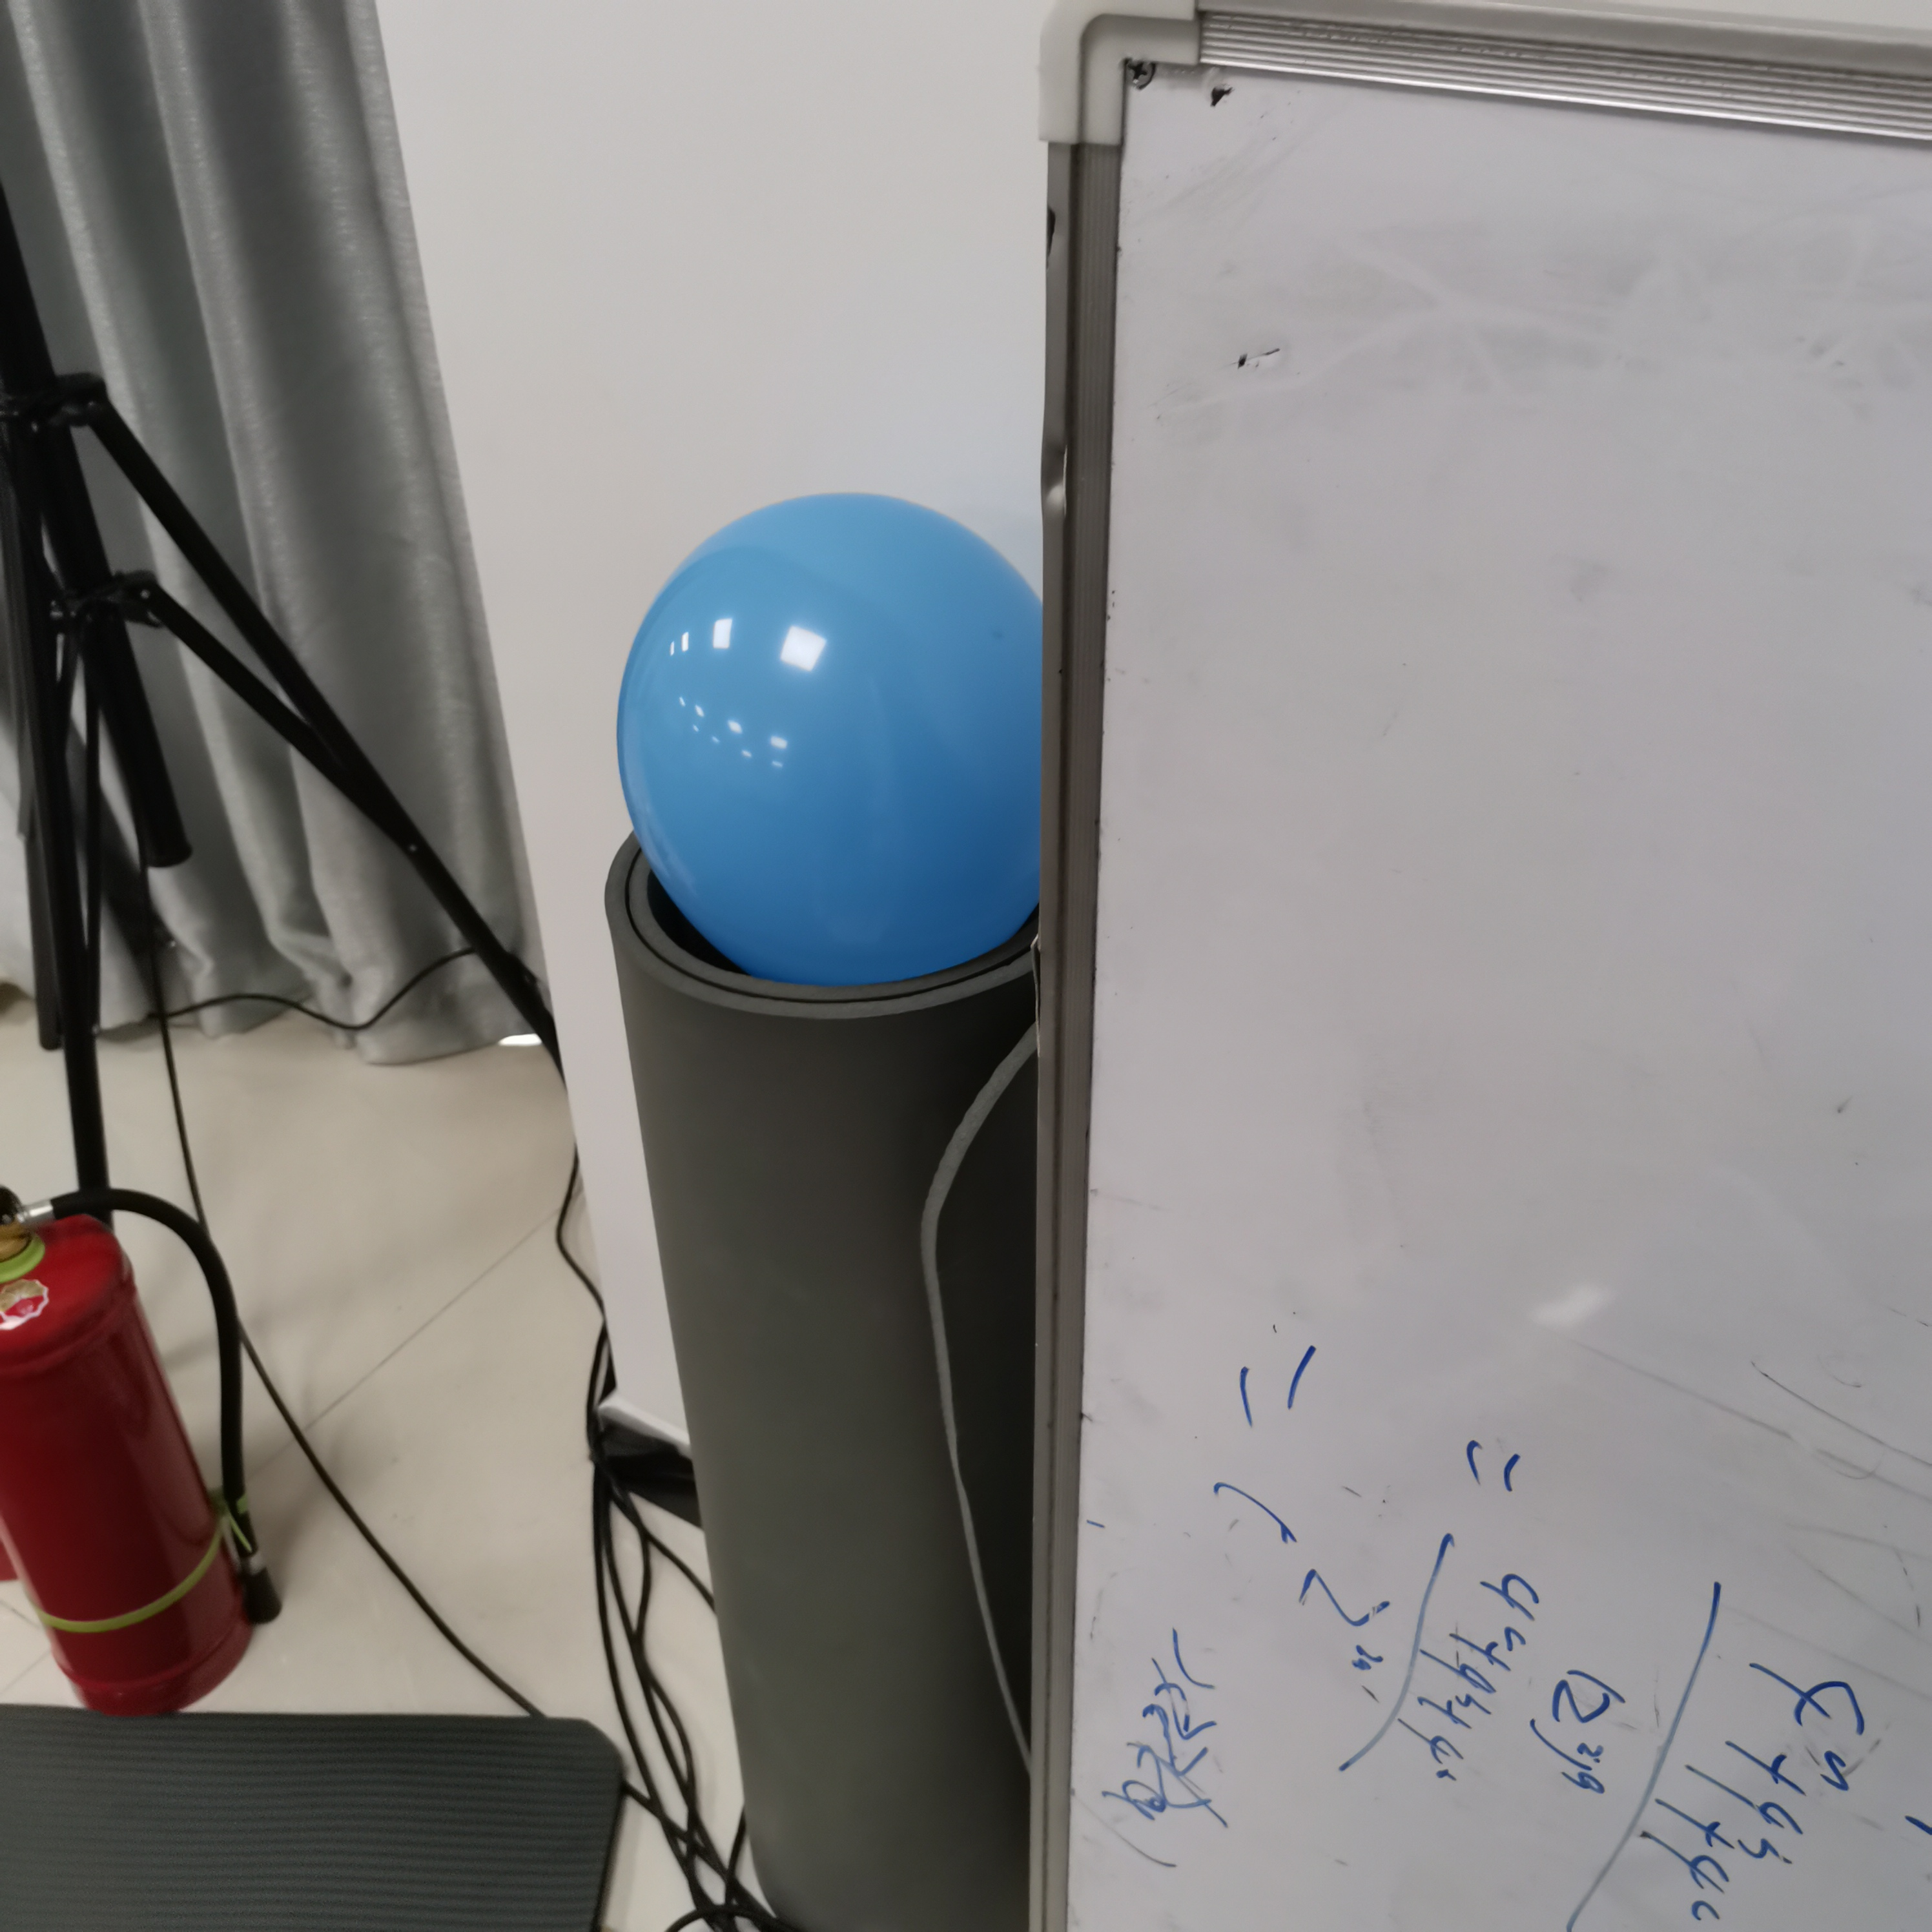balloon: (616, 494, 1040, 1001)
